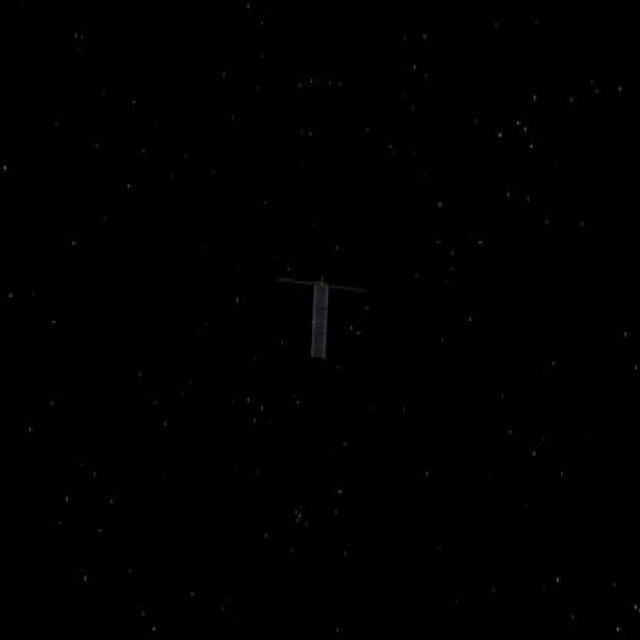medium_debris: (267, 256, 371, 362)
